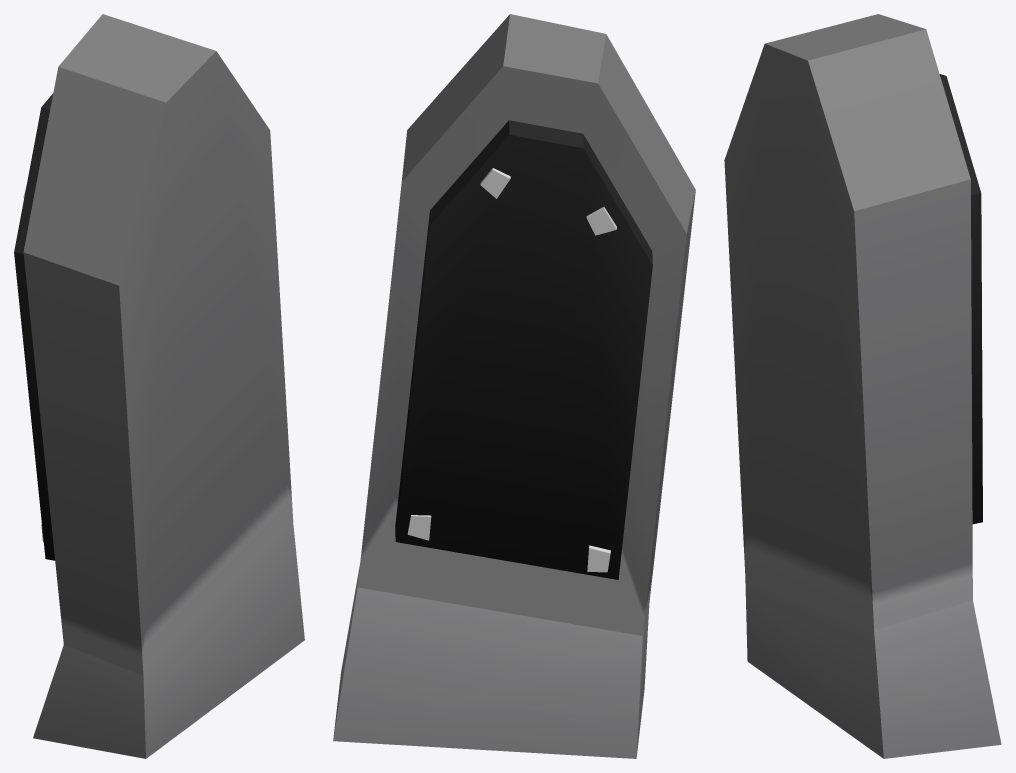
Rendered from ea_grave_stone_mini_02a_pre_lev1.glb.
3 renders of one model, left to right at view 1: azimuth 30°, elevation 25°; view 2: azimuth 150°, elevation 25°; view 3: azimuth 270°, elevation 25°, orthographic. The views are drawn at different scales.
Parts seen in each view (by area): view 1: ea_grave_stone_mini_02a_pre_lev1; view 2: ea_grave_stone_mini_02a_pre_lev1; view 3: ea_grave_stone_mini_02a_pre_lev1.
Part boxes in pixels (box(x1,y1,x2,y2)): ea_grave_stone_mini_02a_pre_lev1: box(14, 14, 304, 758); ea_grave_stone_mini_02a_pre_lev1: box(333, 14, 695, 758); ea_grave_stone_mini_02a_pre_lev1: box(724, 14, 1001, 758).
Bounding box in the file's own units: 0.4771 × 0.9954 × 0.3755.
2 materials, 1 textured.
